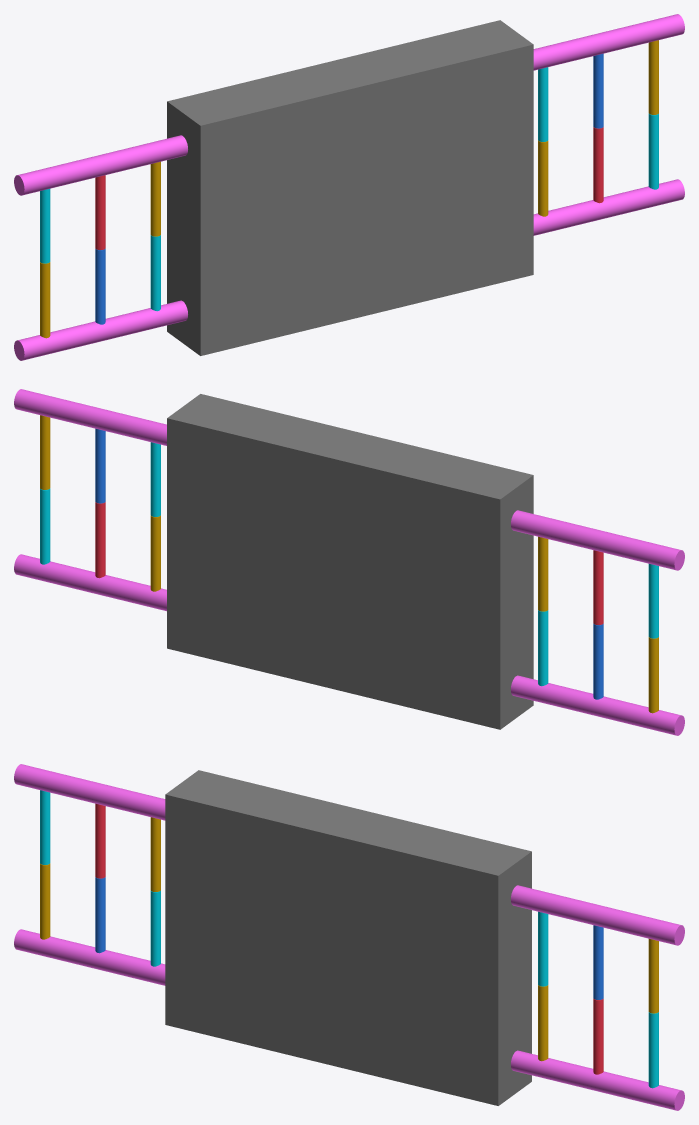
The model's file is dna1.obj.
3 views of the same model, one above another, from view 1: azimuth 30°, elevation 25°; view 2: azimuth 150°, elevation 25°; view 3: azimuth 330°, elevation 25° (orthographic).
Visible parts, largest first — view 1: zhaozi polySurface1, group2 polySurface241 polySurface1, group2 polySurface236 polySurface1, group1 polySurface222 polySurface1, group1 polySurface231 polySurface1, group1 polySurface228 polySurface1, group1 polySurface229 polySurface1, group2 polySurface233 polySurface1, group1 polySurface227 polySurface1, group2 polySurface234 polySurface1, group2 polySurface235 polySurface1, group2 polySurface238 polySurface1 (+5 smaller); view 2: zhaozi polySurface1, group2 polySurface241 polySurface1, group2 polySurface236 polySurface1, group1 polySurface222 polySurface1, group1 polySurface231 polySurface1, group1 polySurface228 polySurface1, group1 polySurface229 polySurface1, group2 polySurface233 polySurface1, group1 polySurface227 polySurface1, group2 polySurface234 polySurface1, group2 polySurface235 polySurface1, group2 polySurface238 polySurface1 (+5 smaller); view 3: zhaozi polySurface1, group1 polySurface222 polySurface1, group1 polySurface231 polySurface1, group2 polySurface241 polySurface1, group2 polySurface236 polySurface1, group2 polySurface234 polySurface1, group2 polySurface233 polySurface1, group1 polySurface229 polySurface1, group2 polySurface235 polySurface1, group1 polySurface227 polySurface1, group1 polySurface228 polySurface1, group1 polySurface218 polySurface1 (+5 smaller).
Boxes of the visible parts, x1,y1,x2,y2 form: zhaozi polySurface1: (167,20,533,355); group2 polySurface241 polySurface1: (14,135,187,195); group2 polySurface236 polySurface1: (14,300,187,360); group1 polySurface222 polySurface1: (533,14,684,70); group1 polySurface231 polySurface1: (533,179,684,235); group1 polySurface228 polySurface1: (593,127,603,203); group1 polySurface229 polySurface1: (538,140,548,216); group2 polySurface233 polySurface1: (150,235,160,311); group1 polySurface227 polySurface1: (648,113,658,189); group2 polySurface234 polySurface1: (95,248,105,324); group2 polySurface235 polySurface1: (40,262,50,338); group2 polySurface238 polySurface1: (150,161,160,236); zhaozi polySurface1: (167,394,533,729); group2 polySurface241 polySurface1: (511,510,684,570); group2 polySurface236 polySurface1: (511,675,684,735); group1 polySurface222 polySurface1: (14,389,166,445); group1 polySurface231 polySurface1: (14,554,166,611); group1 polySurface228 polySurface1: (95,502,105,578); group1 polySurface229 polySurface1: (150,515,160,591); group2 polySurface233 polySurface1: (538,610,548,686); group1 polySurface227 polySurface1: (40,488,50,564); group2 polySurface234 polySurface1: (593,623,603,699); group2 polySurface235 polySurface1: (648,637,658,713); group2 polySurface238 polySurface1: (538,536,548,611); zhaozi polySurface1: (165,770,531,1105); group1 polySurface222 polySurface1: (511,885,684,945); group1 polySurface231 polySurface1: (511,1050,684,1110); group2 polySurface241 polySurface1: (14,764,165,820); group2 polySurface236 polySurface1: (14,929,165,985); group2 polySurface234 polySurface1: (95,877,105,953); group2 polySurface233 polySurface1: (150,890,160,966); group1 polySurface229 polySurface1: (538,985,548,1061); group2 polySurface235 polySurface1: (40,863,50,939); group1 polySurface227 polySurface1: (648,1012,658,1088); group1 polySurface228 polySurface1: (593,998,603,1074); group1 polySurface218 polySurface1: (648,939,658,1013).
Bounding box in the file's own units: 99.12 × 33.04 × 8.68.
